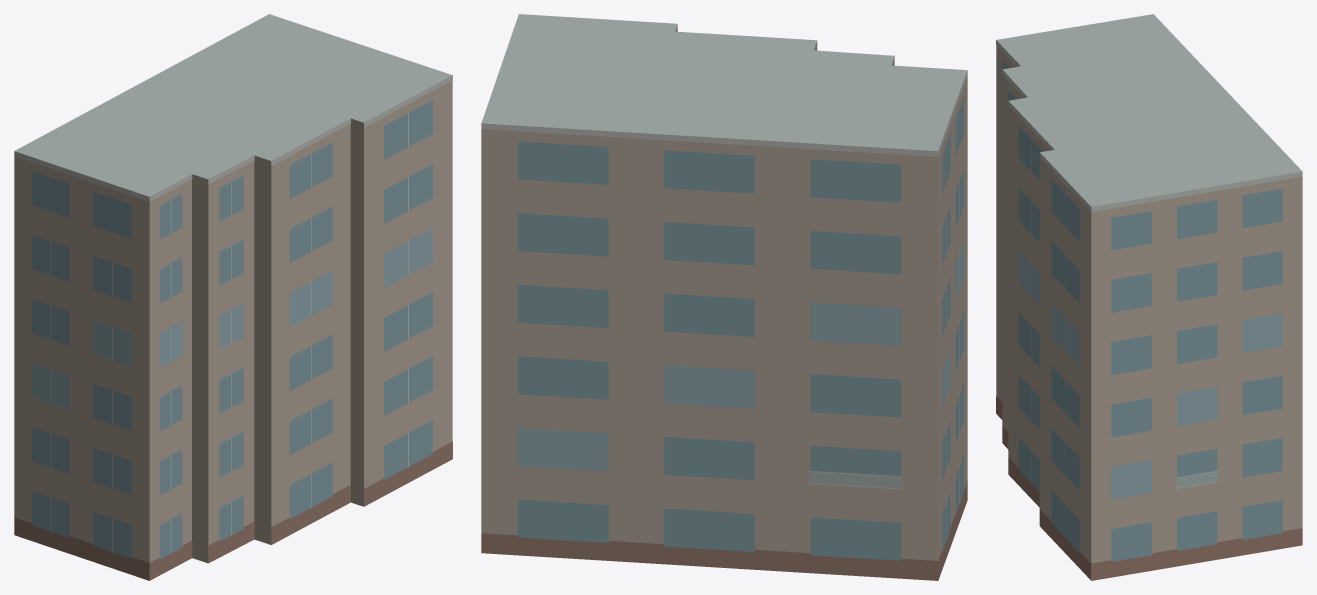
File: survey-upis-32989472.glb
3 renders of one model, left to right at view 1: azimuth 30°, elevation 25°; view 2: azimuth 150°, elevation 25°; view 3: azimuth 270°, elevation 25°, orthographic. The views are drawn at different scales.
Visible parts, largest first — view 1: survey-upis-32989472.tmp; view 2: survey-upis-32989472.tmp; view 3: survey-upis-32989472.tmp.
Boxes of the visible parts, bbox=[...] form: survey-upis-32989472.tmp: bbox=[14, 14, 452, 580]; survey-upis-32989472.tmp: bbox=[481, 14, 967, 580]; survey-upis-32989472.tmp: bbox=[996, 14, 1302, 580].
Size of the model in its own units: 20.29 by 18.3 by 13.61.
